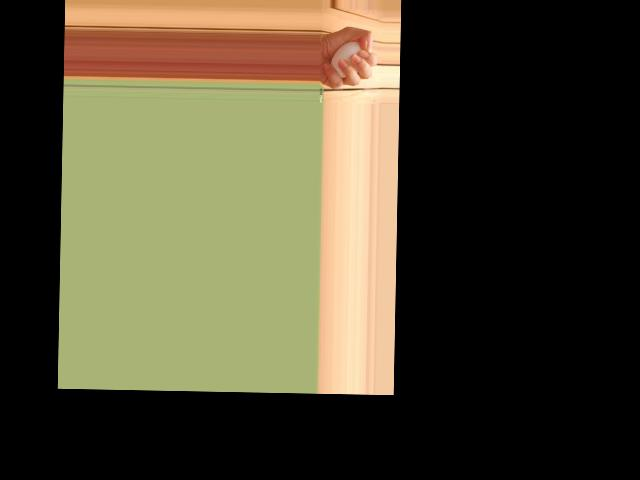egg: (330, 41, 364, 78)
